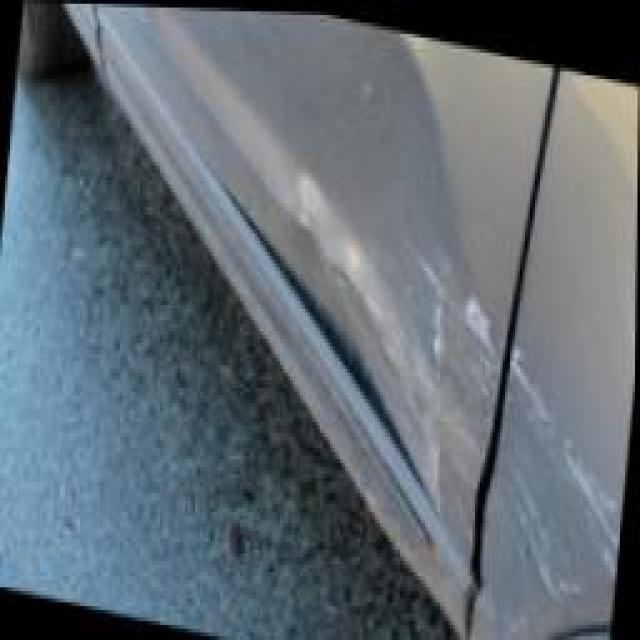Door: (342, 264, 518, 552)
Fender: (478, 380, 625, 640)
